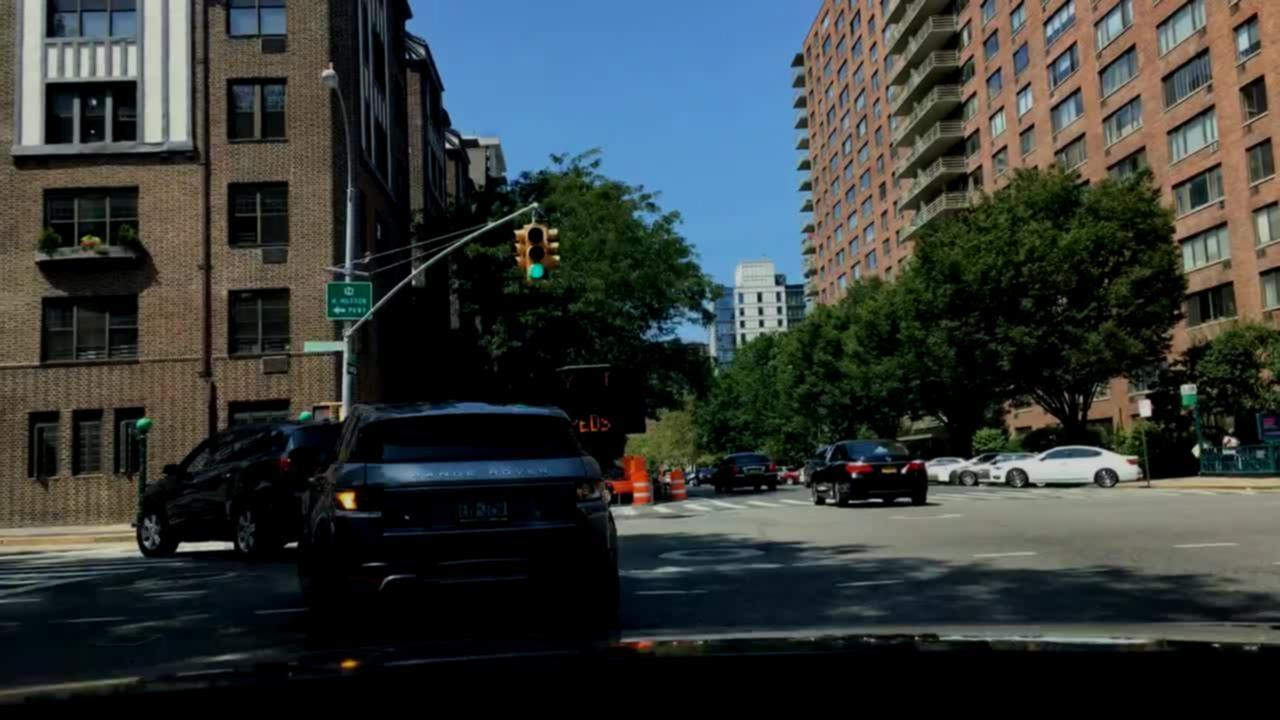range rover: (399, 456, 573, 487)
